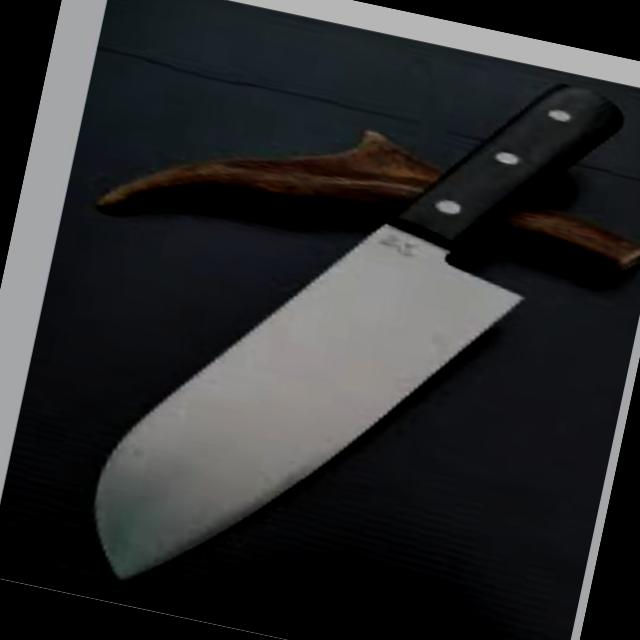knife: (64, 13, 618, 640)
